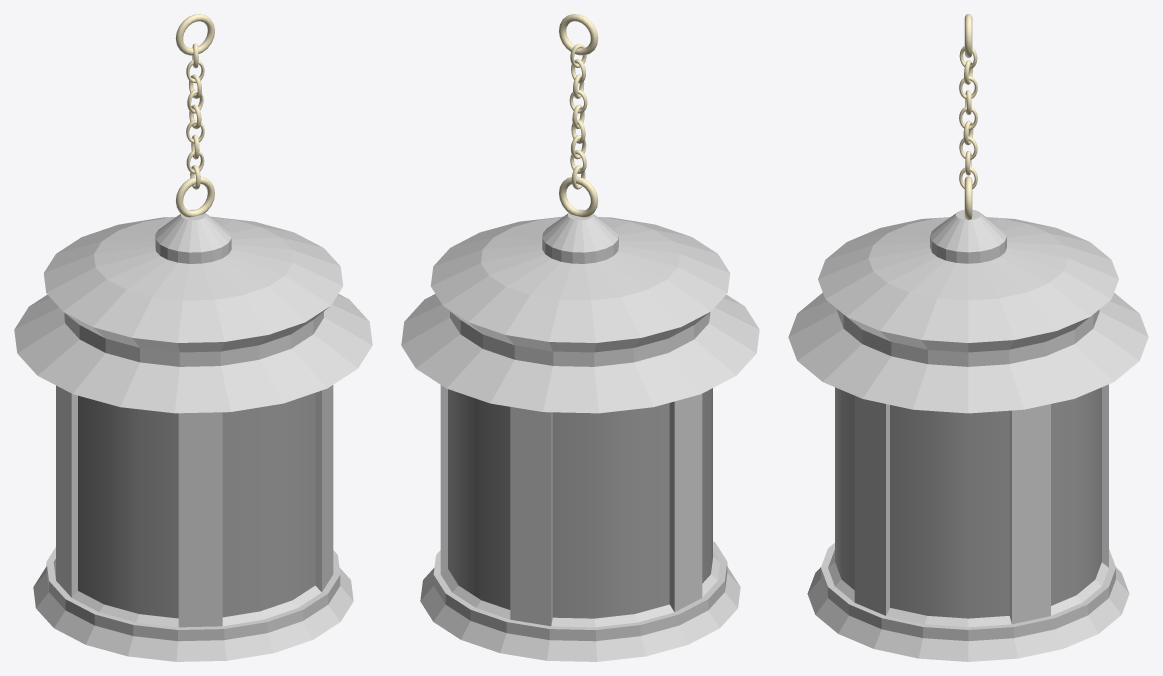
File: Lamp 1.fbx
3 views of the same model, side by side, from view 1: azimuth 30°, elevation 25°; view 2: azimuth 150°, elevation 25°; view 3: azimuth 270°, elevation 25° (orthographic).
Visible parts, largest first — view 1: Lamp, Torus10, Torus1; view 2: Lamp, Torus10, Torus1; view 3: Lamp.
Part boxes in pixels (left/top/right/bottom): Lamp: left=14, top=209, right=372, bottom=661; Torus10: left=175, top=14, right=214, bottom=55; Torus1: left=176, top=176, right=214, bottom=217; Lamp: left=401, top=209, right=759, bottom=661; Torus10: left=559, top=14, right=598, bottom=55; Torus1: left=559, top=176, right=597, bottom=217; Lamp: left=788, top=209, right=1148, bottom=661.
Size of the model in its own units: 0.937 by 1.66 by 0.937.
